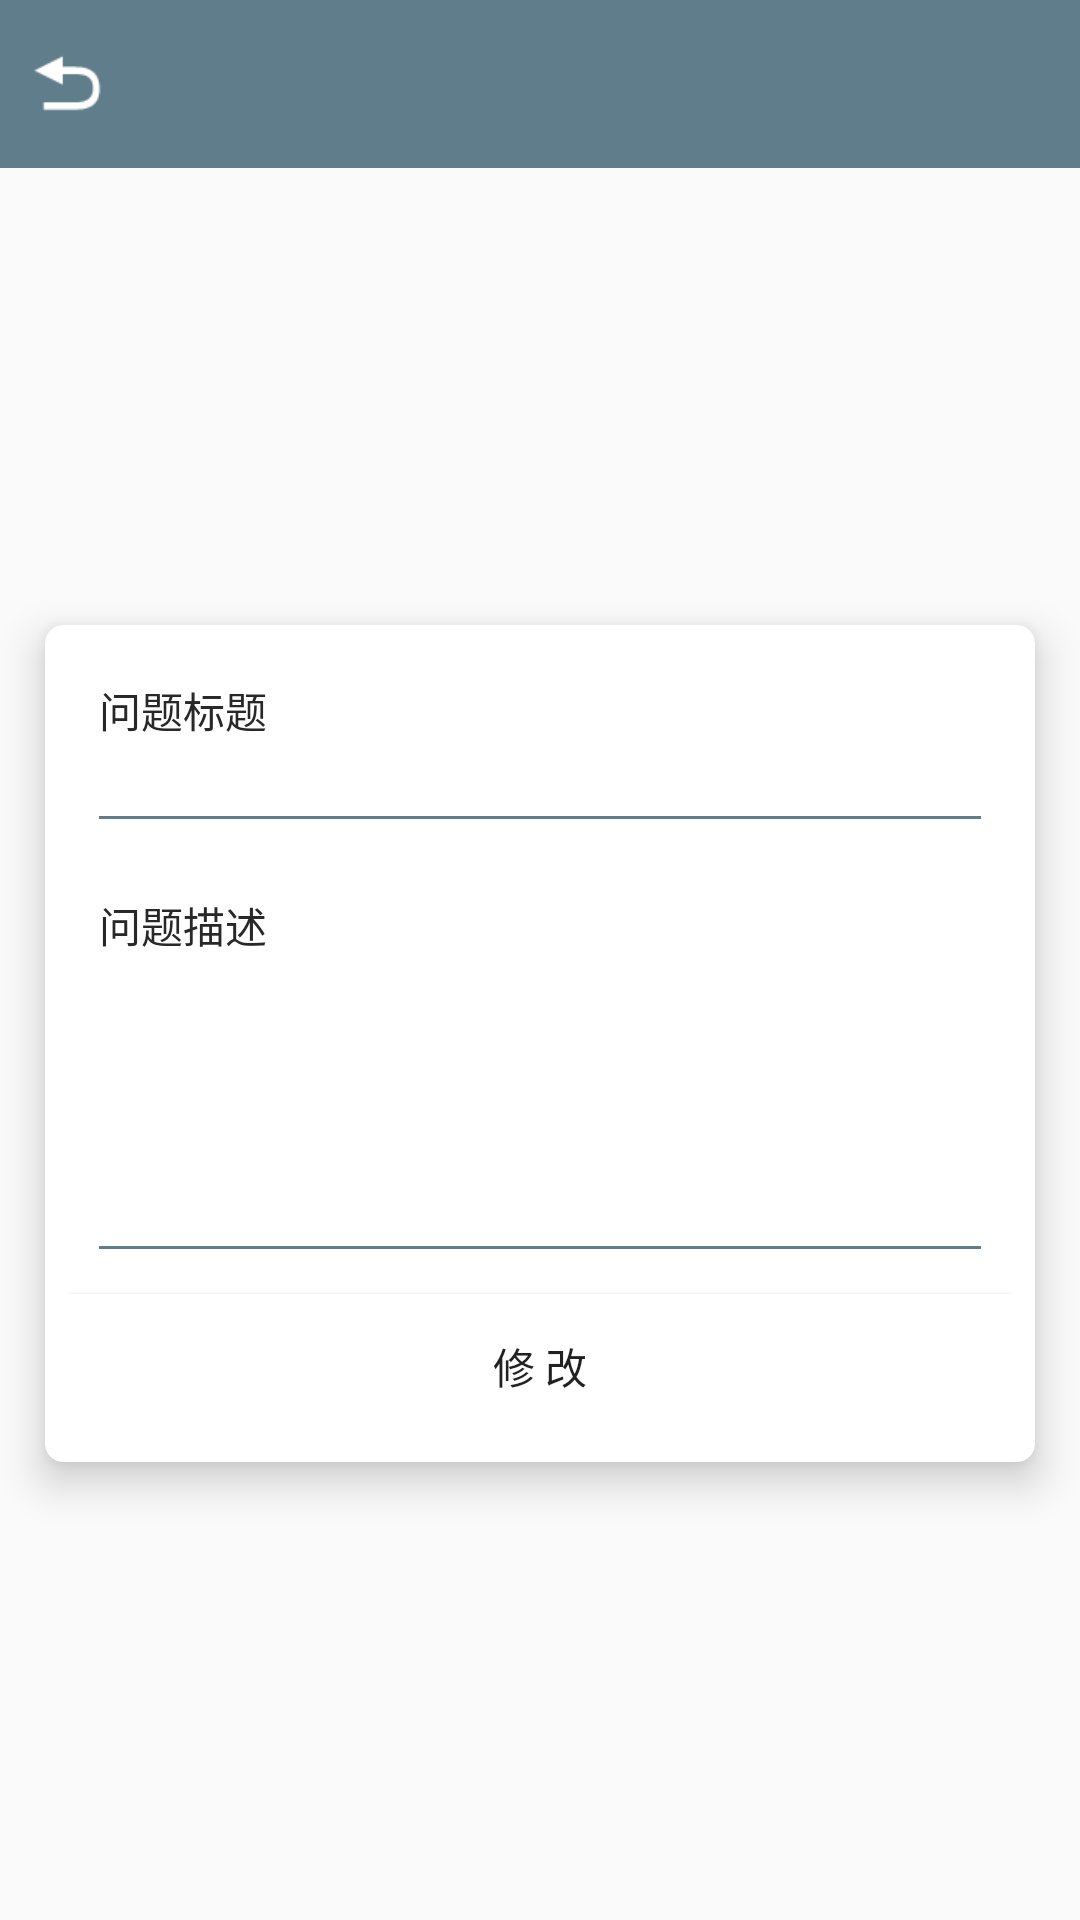

Icon click points for this 1080 x 1920 phone screenshot, format [x,y]:
back: [67,83]
